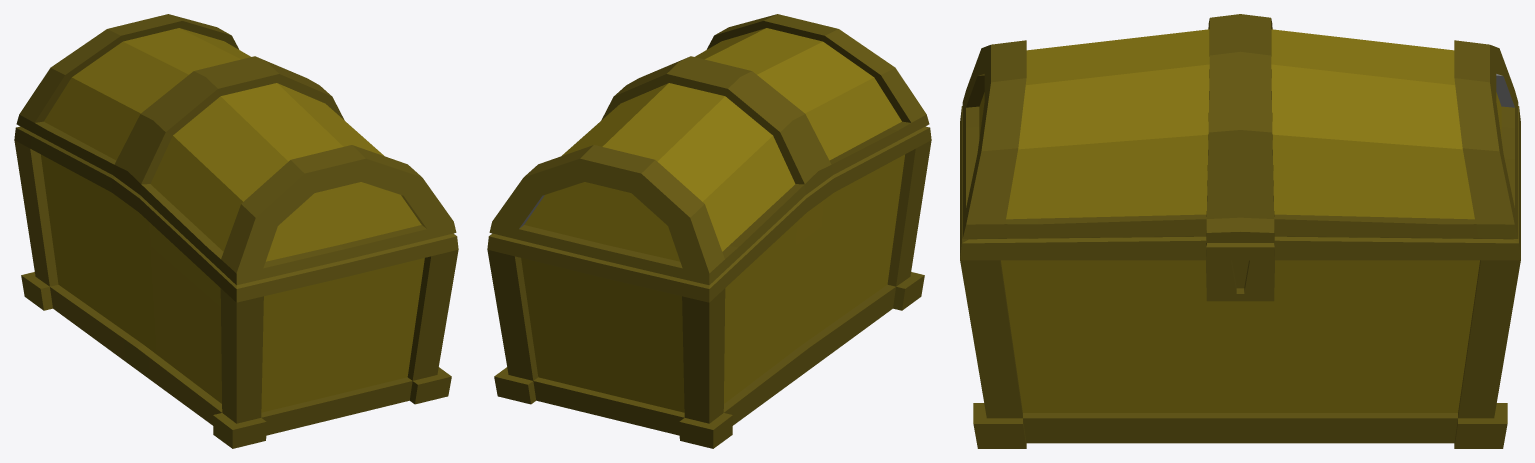
The model's file is my_Chest.fbx.
3 renders of one model, left to right at view 1: azimuth 30°, elevation 25°; view 2: azimuth 150°, elevation 25°; view 3: azimuth 270°, elevation 25°, orthographic. The views are drawn at different scales.
Visible parts, largest first — view 1: pCylinder1; view 2: pCylinder1; view 3: pCylinder1.
Part boxes in pixels (x1,y1,x2,y2): pCylinder1: [14, 14, 458, 448]; pCylinder1: [487, 14, 931, 448]; pCylinder1: [960, 14, 1520, 448].
Bounding box in the file's own units: 24.95 × 28.2 × 40.99.
